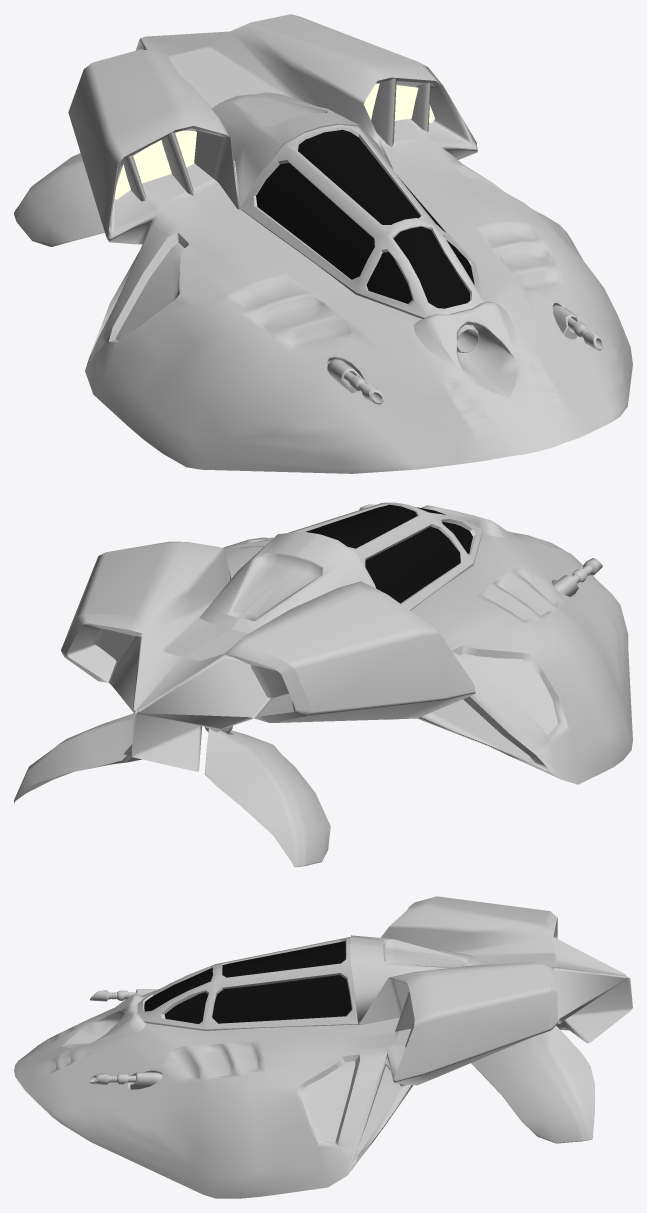
The model's file is evtank00.fbx.
3 views of the same model, one above another, from view 1: azimuth 30°, elevation 25°; view 2: azimuth 150°, elevation 25°; view 3: azimuth 270°, elevation 25° (orthographic). The views are drawn at different scales.
Parts seen in each view (by area): view 1: mainbody, cockpit, canopy, wing_r, intake, flame_4__h, flame_3__h; view 2: mainbody, wing_r, cockpit, wing_l, canopy; view 3: mainbody, cockpit, wing_l, canopy, intake, recoil_l, gun_l.
Part boxes in pixels (bbox=[...]): mainbody: bbox=[68, 14, 632, 473]; cockpit: bbox=[256, 129, 474, 308]; canopy: bbox=[240, 124, 484, 318]; wing_r: bbox=[14, 153, 104, 246]; intake: bbox=[121, 78, 430, 201]; flame_4__h: bbox=[114, 130, 196, 199]; flame_3__h: bbox=[364, 83, 434, 122]; mainbody: bbox=[61, 505, 632, 784]; wing_r: bbox=[204, 729, 330, 867]; cockpit: bbox=[306, 505, 472, 603]; wing_l: bbox=[14, 713, 141, 802]; canopy: bbox=[287, 502, 482, 610]; mainbody: bbox=[14, 896, 632, 1198]; cockpit: bbox=[144, 941, 351, 1023]; wing_l: bbox=[471, 1026, 594, 1143]; canopy: bbox=[137, 937, 358, 1030]; intake: bbox=[395, 991, 414, 1047]; recoil_l: bbox=[90, 1073, 135, 1084]; gun_l: bbox=[130, 1072, 162, 1089].
Size of the model in its own units: 5.9 by 2.65 by 8.46.
